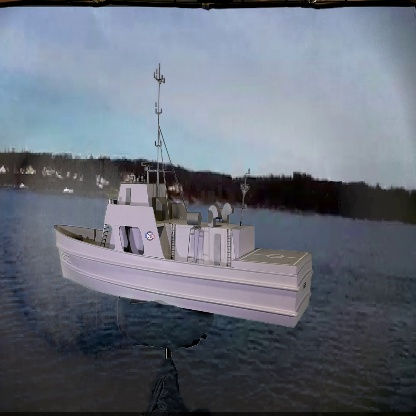YP689: (55, 56, 314, 333)
